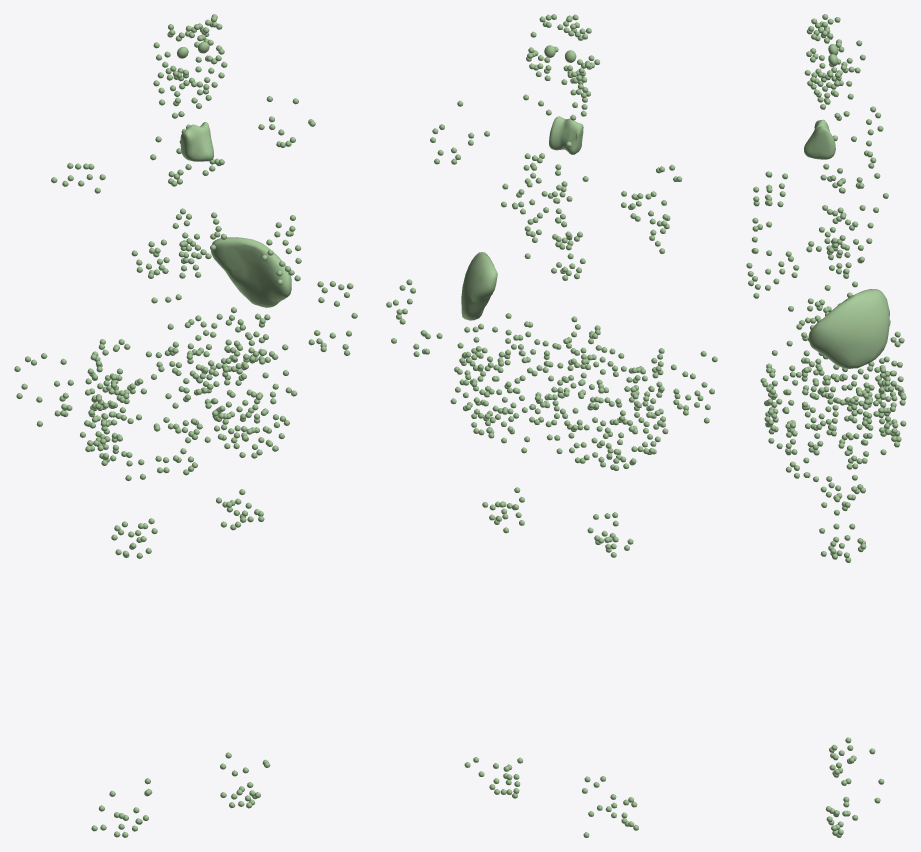
File: pediatric_adolescent_male.lymphatic.LOD0.glb
The picture shows the model from 3 angles, left to right: view 1: azimuth 30°, elevation 25°; view 2: azimuth 150°, elevation 25°; view 3: azimuth 270°, elevation 25°; orthographic projection. The views are drawn at different scales.
Parts seen in each view (by area): view 1: PEDIATRIC.ADOLESCENT.MALE.LYMPHATIC.LYMPHATIC_NODES_TRUNK, PEDIATRIC.ADOLESCENT.MALE.LYMPHATIC.SPLEEN, PEDIATRIC.ADOLESCENT.MALE.LYMPHATIC.LYMPHATIC_NODES_THORACIC, PEDIATRIC.ADOLESCENT.MALE.LYMPHATIC.LYMPHATIC_NODES_ET, PEDIATRIC.ADOLESCENT.MALE.LYMPHATIC.LYMPHATIC_NODES_ARMS, PEDIATRIC.ADOLESCENT.MALE.LYMPHATIC.LYMPHATIC_NODES_LEGS, PEDIATRIC.ADOLESCENT.MALE.LYMPHATIC.THYMUS, PEDIATRIC.ADOLESCENT.MALE.LYMPHATIC.LYMPHATIC_NODES_HEAD; view 2: PEDIATRIC.ADOLESCENT.MALE.LYMPHATIC.LYMPHATIC_NODES_TRUNK, PEDIATRIC.ADOLESCENT.MALE.LYMPHATIC.SPLEEN, PEDIATRIC.ADOLESCENT.MALE.LYMPHATIC.LYMPHATIC_NODES_THORACIC, PEDIATRIC.ADOLESCENT.MALE.LYMPHATIC.LYMPHATIC_NODES_ET, PEDIATRIC.ADOLESCENT.MALE.LYMPHATIC.LYMPHATIC_NODES_LEGS, PEDIATRIC.ADOLESCENT.MALE.LYMPHATIC.LYMPHATIC_NODES_ARMS, PEDIATRIC.ADOLESCENT.MALE.LYMPHATIC.THYMUS; view 3: PEDIATRIC.ADOLESCENT.MALE.LYMPHATIC.LYMPHATIC_NODES_TRUNK, PEDIATRIC.ADOLESCENT.MALE.LYMPHATIC.SPLEEN, PEDIATRIC.ADOLESCENT.MALE.LYMPHATIC.LYMPHATIC_NODES_THORACIC, PEDIATRIC.ADOLESCENT.MALE.LYMPHATIC.LYMPHATIC_NODES_ET, PEDIATRIC.ADOLESCENT.MALE.LYMPHATIC.LYMPHATIC_NODES_LEGS, PEDIATRIC.ADOLESCENT.MALE.LYMPHATIC.THYMUS, PEDIATRIC.ADOLESCENT.MALE.LYMPHATIC.LYMPHATIC_NODES_ARMS, PEDIATRIC.ADOLESCENT.MALE.LYMPHATIC.LYMPHATIC_NODES_HEAD.
Part boxes in pixels (left/top/right/bottom): PEDIATRIC.ADOLESCENT.MALE.LYMPHATIC.LYMPHATIC_NODES_TRUNK: left=51, top=96, right=315, bottom=558; PEDIATRIC.ADOLESCENT.MALE.LYMPHATIC.SPLEEN: left=211, top=237, right=291, bottom=307; PEDIATRIC.ADOLESCENT.MALE.LYMPHATIC.LYMPHATIC_NODES_THORACIC: left=148, top=124, right=226, bottom=278; PEDIATRIC.ADOLESCENT.MALE.LYMPHATIC.LYMPHATIC_NODES_ET: left=153, top=14, right=227, bottom=87; PEDIATRIC.ADOLESCENT.MALE.LYMPHATIC.LYMPHATIC_NODES_ARMS: left=14, top=281, right=357, bottom=426; PEDIATRIC.ADOLESCENT.MALE.LYMPHATIC.LYMPHATIC_NODES_LEGS: left=91, top=752, right=270, bottom=837; PEDIATRIC.ADOLESCENT.MALE.LYMPHATIC.THYMUS: left=180, top=122, right=213, bottom=161; PEDIATRIC.ADOLESCENT.MALE.LYMPHATIC.LYMPHATIC_NODES_HEAD: left=153, top=72, right=224, bottom=118; PEDIATRIC.ADOLESCENT.MALE.LYMPHATIC.LYMPHATIC_NODES_TRUNK: left=430, top=100, right=682, bottom=557; PEDIATRIC.ADOLESCENT.MALE.LYMPHATIC.SPLEEN: left=461, top=252, right=497, bottom=320; PEDIATRIC.ADOLESCENT.MALE.LYMPHATIC.LYMPHATIC_NODES_THORACIC: left=523, top=141, right=588, bottom=280; PEDIATRIC.ADOLESCENT.MALE.LYMPHATIC.LYMPHATIC_NODES_ET: left=526, top=14, right=599, bottom=83; PEDIATRIC.ADOLESCENT.MALE.LYMPHATIC.LYMPHATIC_NODES_LEGS: left=464, top=757, right=638, bottom=837; PEDIATRIC.ADOLESCENT.MALE.LYMPHATIC.LYMPHATIC_NODES_ARMS: left=386, top=279, right=717, bottom=423; PEDIATRIC.ADOLESCENT.MALE.LYMPHATIC.THYMUS: left=549, top=116, right=583, bottom=154; PEDIATRIC.ADOLESCENT.MALE.LYMPHATIC.LYMPHATIC_NODES_TRUNK: left=746, top=83, right=906, bottom=562; PEDIATRIC.ADOLESCENT.MALE.LYMPHATIC.SPLEEN: left=808, top=289, right=890, bottom=368; PEDIATRIC.ADOLESCENT.MALE.LYMPHATIC.LYMPHATIC_NODES_THORACIC: left=806, top=135, right=880, bottom=274; PEDIATRIC.ADOLESCENT.MALE.LYMPHATIC.LYMPHATIC_NODES_ET: left=804, top=14, right=865, bottom=87; PEDIATRIC.ADOLESCENT.MALE.LYMPHATIC.LYMPHATIC_NODES_LEGS: left=825, top=737, right=884, bottom=837; PEDIATRIC.ADOLESCENT.MALE.LYMPHATIC.THYMUS: left=804, top=119, right=835, bottom=159; PEDIATRIC.ADOLESCENT.MALE.LYMPHATIC.LYMPHATIC_NODES_ARMS: left=812, top=244, right=868, bottom=455; PEDIATRIC.ADOLESCENT.MALE.LYMPHATIC.LYMPHATIC_NODES_HEAD: left=807, top=61, right=853, bottom=120.
Bounding box in the file's own units: 0.4762 × 1.11 × 0.2047.
